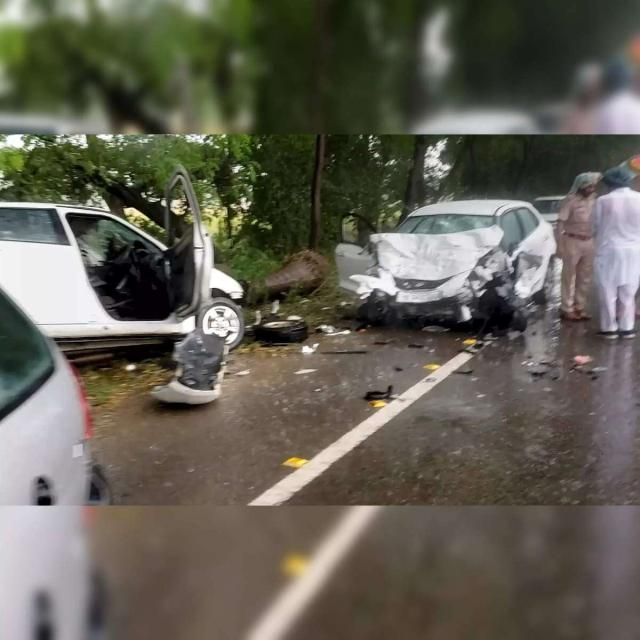accident: (0, 168, 244, 350), (341, 200, 555, 329)
